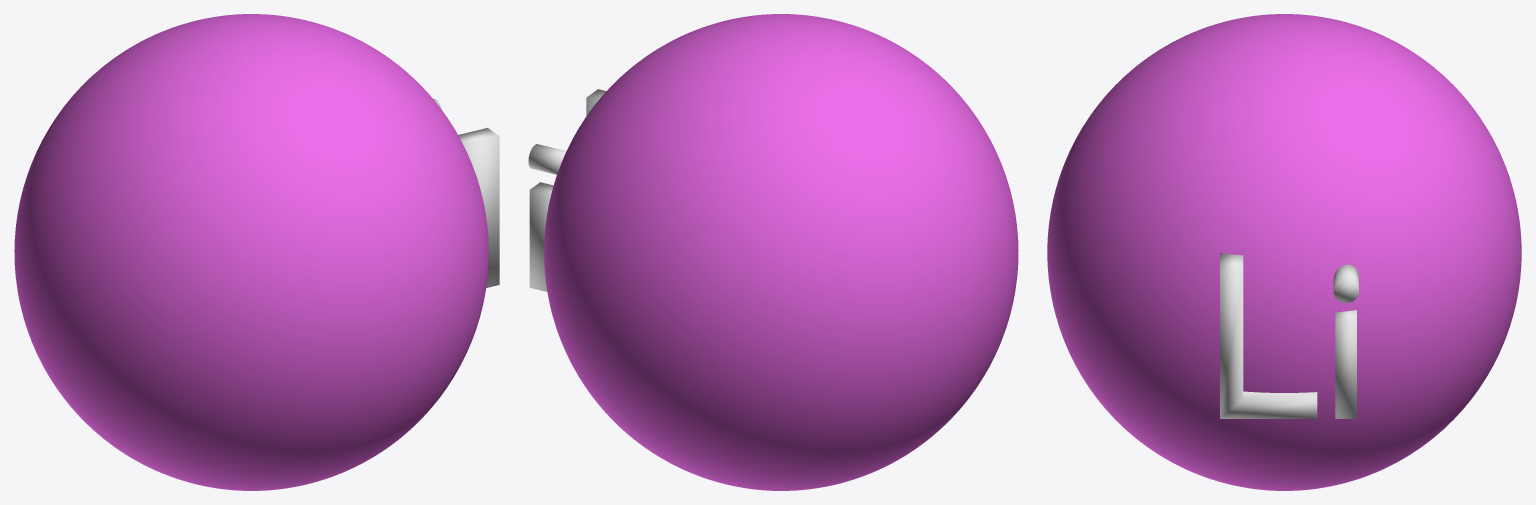
Rendered from Lithium.fbx.
The picture shows the model from 3 angles, left to right: view 1: azimuth 30°, elevation 25°; view 2: azimuth 150°, elevation 25°; view 3: azimuth 270°, elevation 25°; orthographic projection.
Parts seen in each view (by area): view 1: Sphere, Text; view 2: Sphere, Text; view 3: Sphere, Text.
Part boxes in pixels (left/top/right/bottom): Sphere: left=14, top=14, right=488, bottom=490; Text: left=433, top=99, right=499, bottom=287; Sphere: left=544, top=14, right=1018, bottom=490; Text: left=528, top=89, right=606, bottom=291; Sphere: left=1047, top=14, right=1521, bottom=490; Text: left=1220, top=253, right=1358, bottom=418.
Size of the model in its own units: 202 by 200 by 197.
